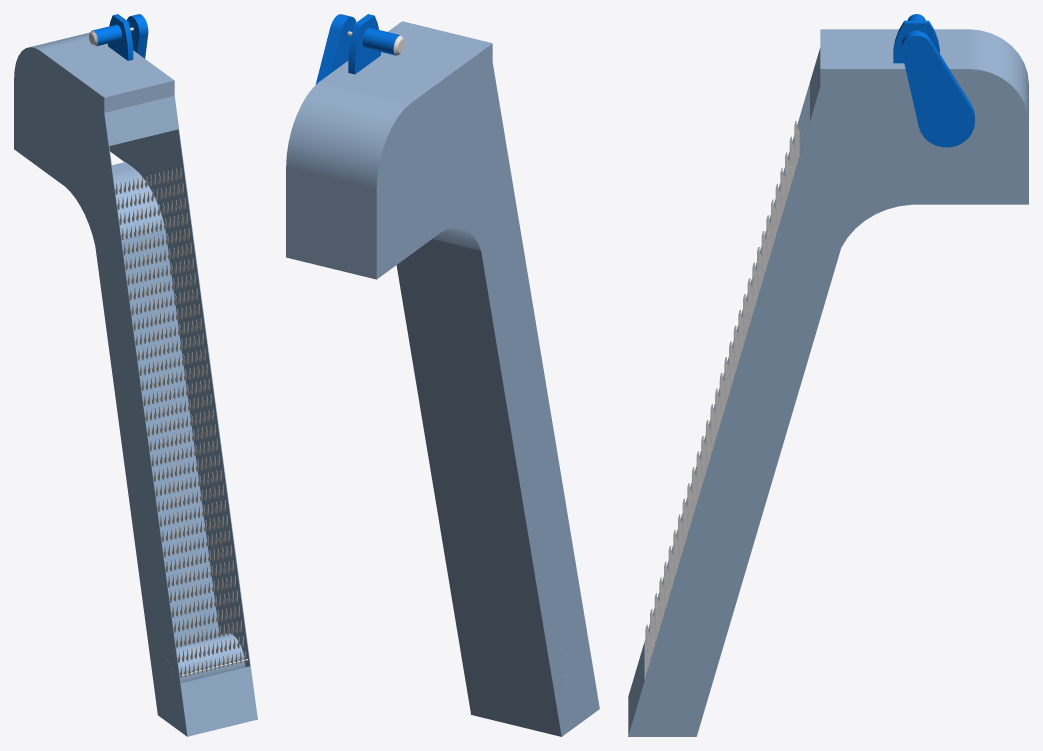
Rendered from screen-cleaner.gltf.
3 renders of one model, left to right at view 1: azimuth 30°, elevation 25°; view 2: azimuth 150°, elevation 25°; view 3: azimuth 270°, elevation 25°, orthographic. The views are drawn at different scales.
Parts seen in each view (by area): view 1: 连接的实心几何图形 [215656], 拉伸 [215666], 拉伸 [215805], 拉伸 [215785], 拉伸 [215794]; view 2: 连接的实心几何图形 [215656], 拉伸 [215785], 拉伸 [215805], 拉伸 [215794]; view 3: 连接的实心几何图形 [215656], 拉伸 [215785], 拉伸 [215805], 拉伸 [215666].
Boxes of the visible parts, bbox=[...] form: 连接的实心几何图形 [215656]: bbox=[14, 32, 257, 736]; 拉伸 [215666]: bbox=[181, 666, 257, 736]; 拉伸 [215805]: bbox=[108, 14, 133, 60]; 拉伸 [215785]: bbox=[127, 14, 148, 58]; 拉伸 [215794]: bbox=[92, 24, 121, 45]; 连接的实心几何图形 [215656]: bbox=[286, 21, 599, 736]; 拉伸 [215785]: bbox=[315, 14, 356, 84]; 拉伸 [215805]: bbox=[348, 14, 380, 74]; 拉伸 [215794]: bbox=[362, 27, 402, 55]; 连接的实心几何图形 [215656]: bbox=[628, 29, 1028, 736]; 拉伸 [215785]: bbox=[901, 31, 974, 147]; 拉伸 [215805]: bbox=[893, 20, 939, 63]; 拉伸 [215666]: bbox=[628, 642, 645, 735].
Size of the model in its own units: 0.5584 by 4.13 by 2.12.
